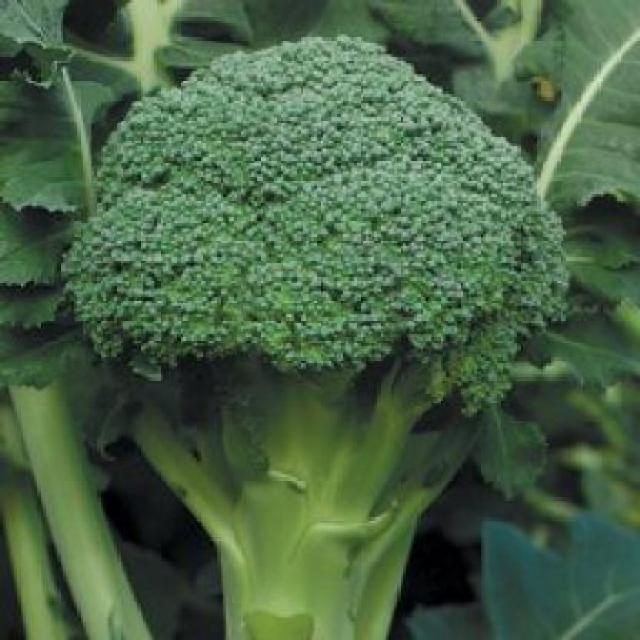broccoli: (43, 39, 563, 635)
